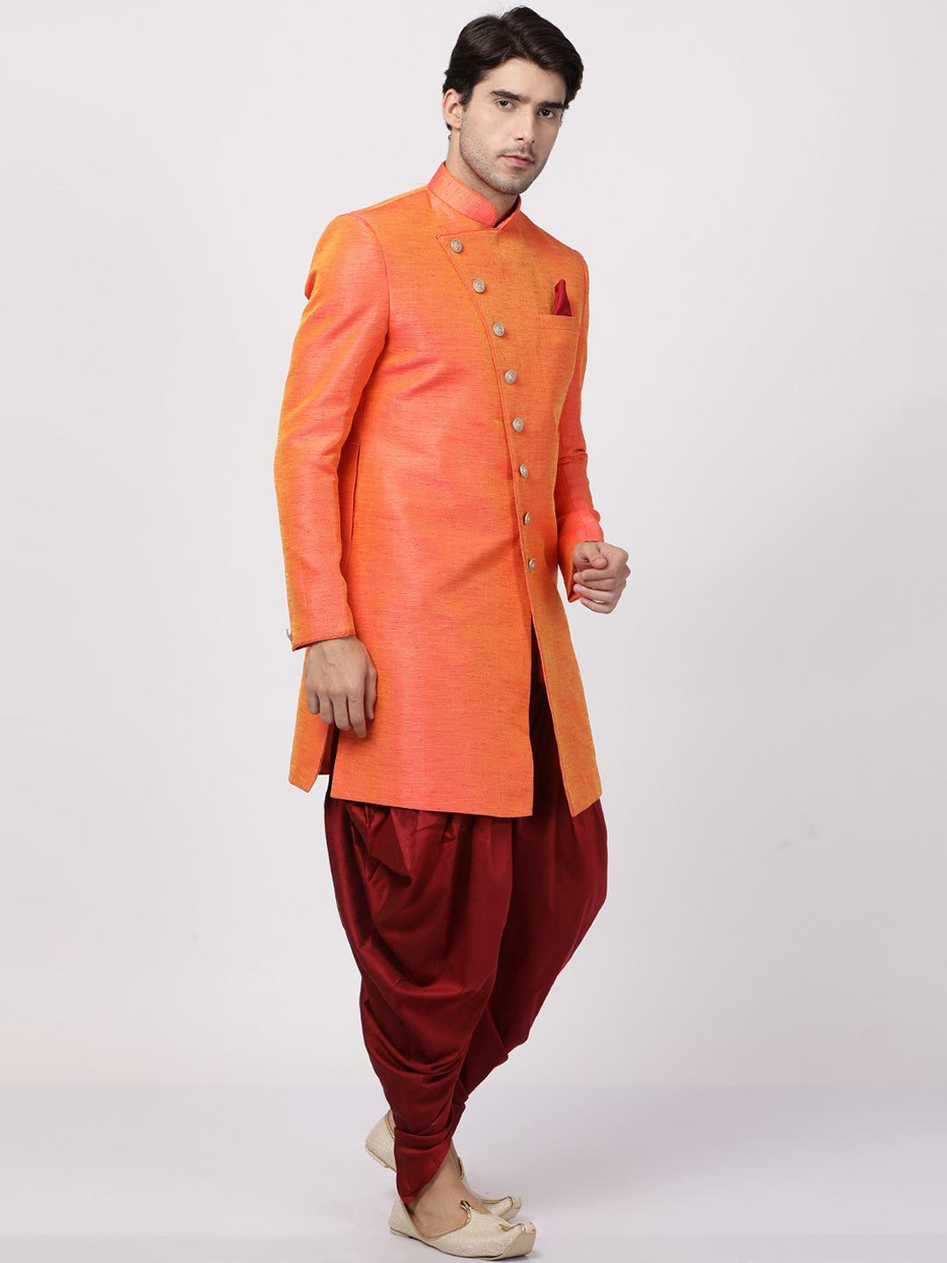Plain Sherwani: (271, 162, 627, 823)
